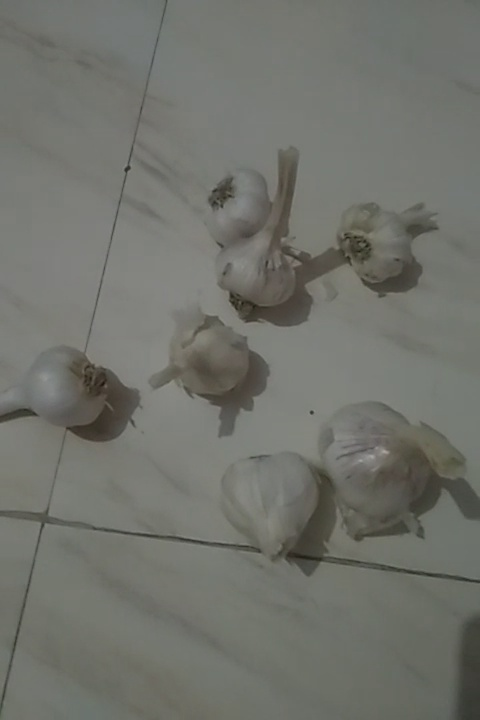garlic: (318, 389, 457, 539), (2, 345, 114, 454), (215, 449, 323, 561), (161, 303, 256, 405), (348, 196, 438, 291), (231, 216, 305, 311), (200, 165, 284, 245)
